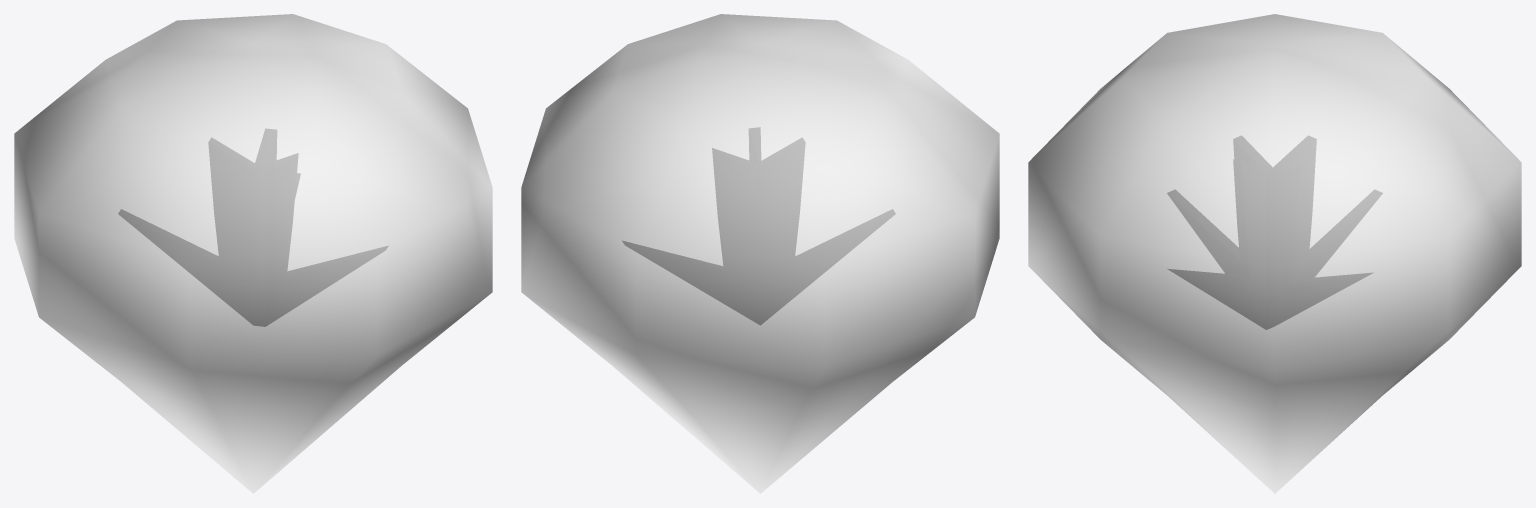
Rendered from spot.glb.
3 views of the same model, side by side, from view 1: azimuth 30°, elevation 25°; view 2: azimuth 150°, elevation 25°; view 3: azimuth 270°, elevation 25° (orthographic).
Parts seen in each view (by area): view 1: Esfera, Flecha; view 2: Esfera, Flecha; view 3: Esfera, Flecha.
Part boxes in pixels (<box>): Esfera: <box>14,14,492,493</box>; Flecha: <box>118,129,387,326</box>; Esfera: <box>521,14,999,493</box>; Flecha: <box>622,127,895,324</box>; Esfera: <box>1028,14,1521,493</box>; Flecha: <box>1167,136,1382,329</box>.
Bounding box in the file's own units: 0.4993 × 0.5 × 0.4993.
2 materials, 1 textured.
